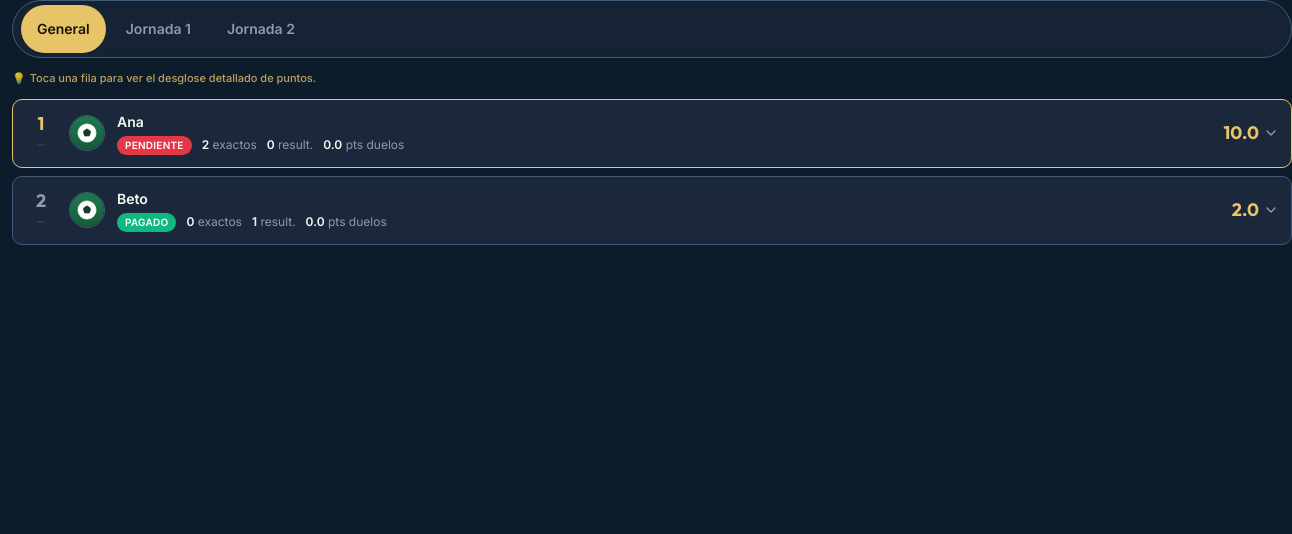
Test case: StandingsTable › Accordion – desglose de puntos › expande el desglose al hacer clic en una fila y colapsa al clicar de nuevo
# Expandir la fila de Ana
Click the button with test id "standings-row-toggle" that starts with "Ana": [87, 133] box x1=25 y1=112 x2=1279 y2=154
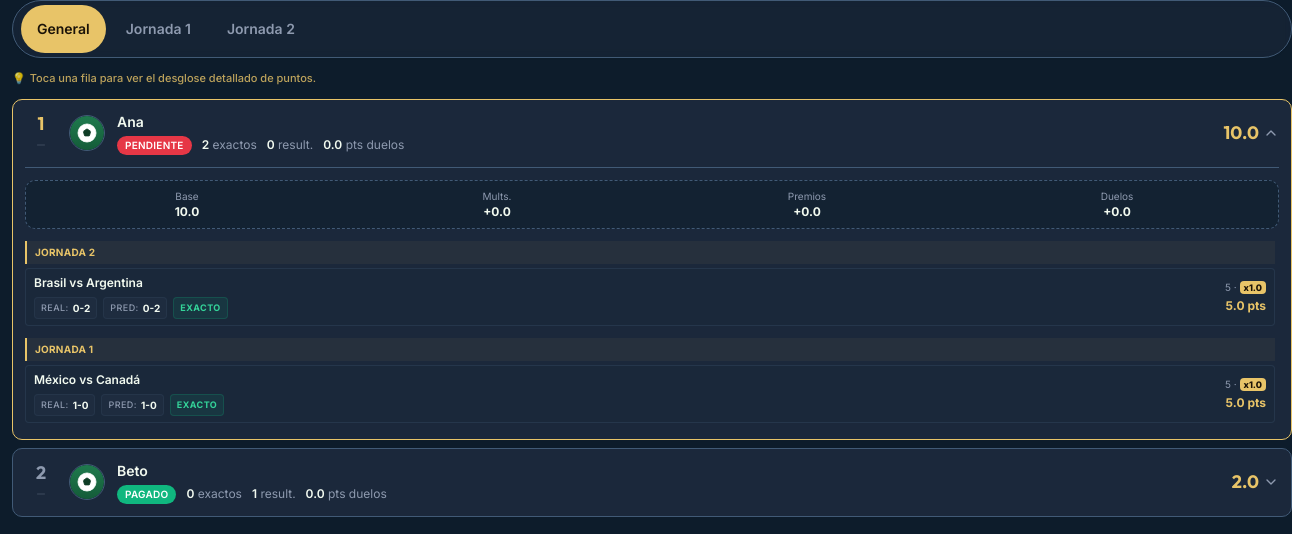
Check: the element with test id "standings-accordion" is shown, box x1=25 y1=166 x2=1279 y2=426
Click the button with test id "standings-row-toggle" that starts with "Ana": [87, 133] box x1=25 y1=112 x2=1279 y2=154
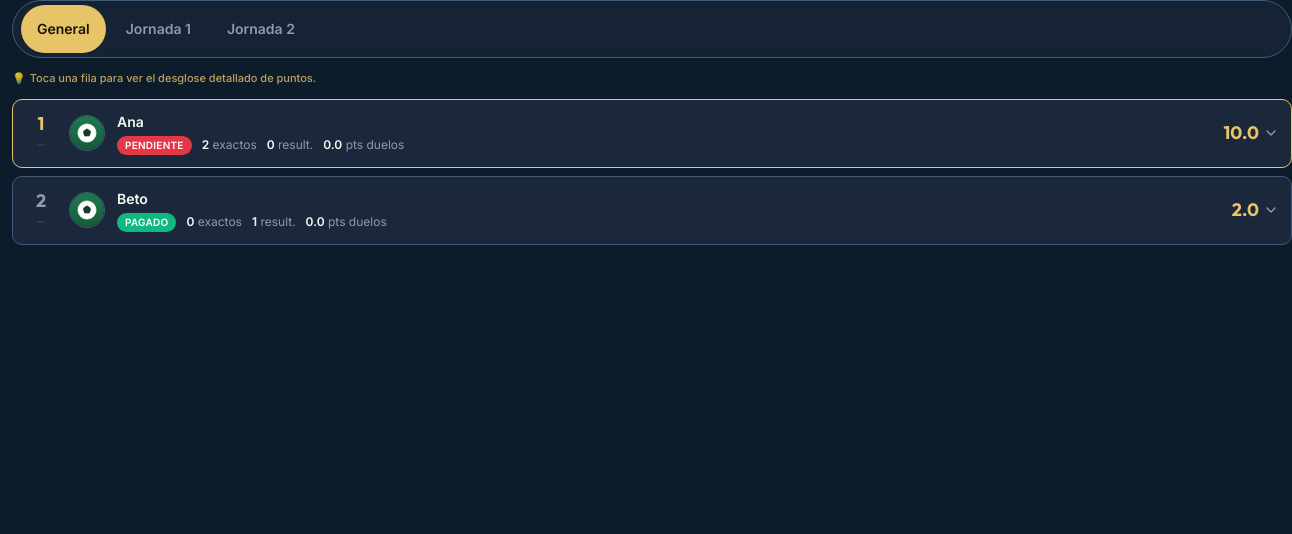
Check: the element with test id "standings-accordion" is gone
